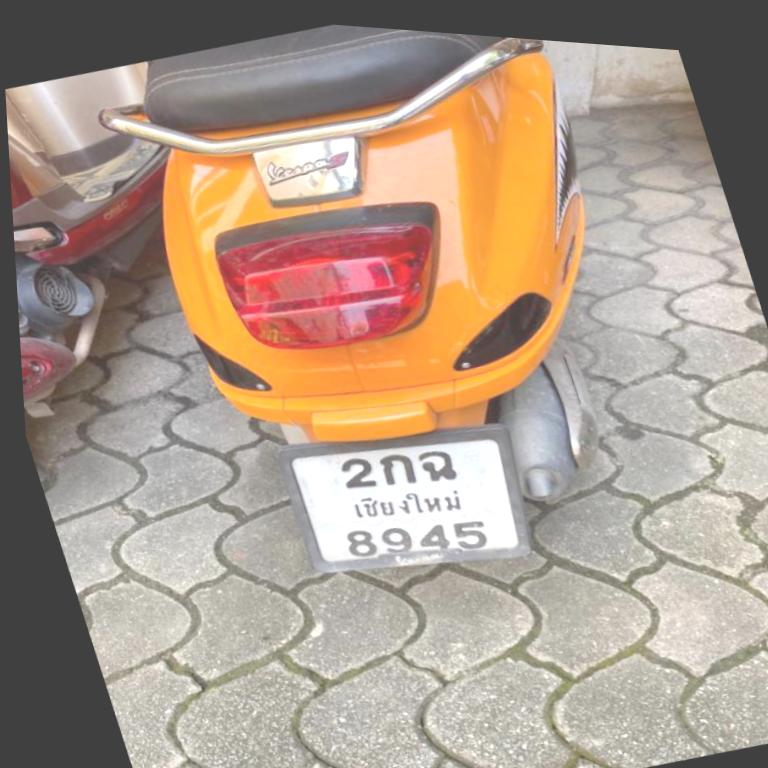license plate: (279, 427, 529, 571)
